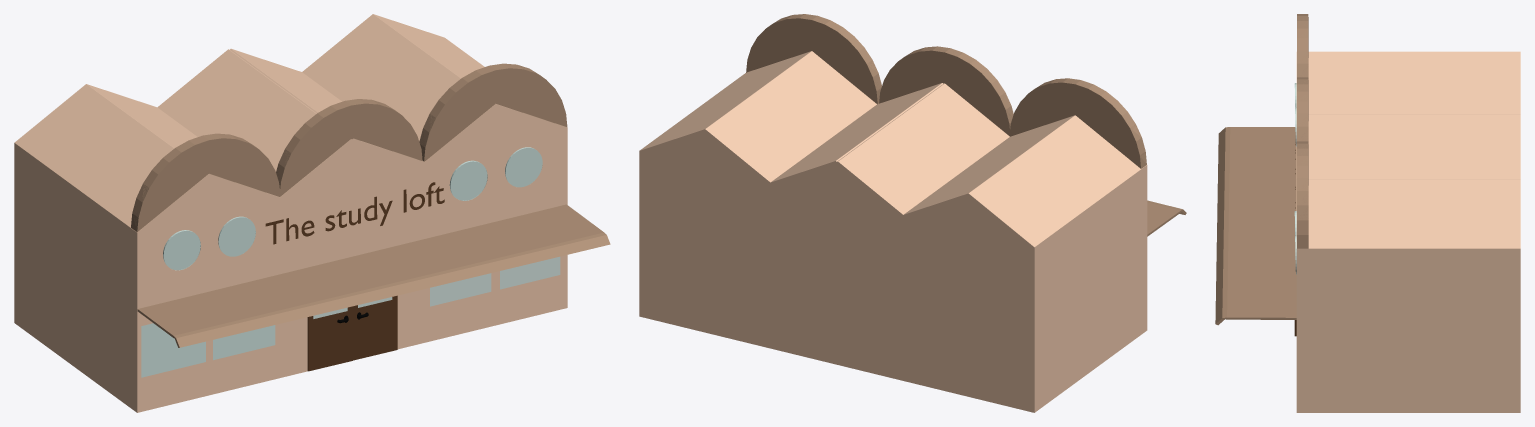
Rendered from studyloft.fbx.
3 views of the same model, side by side, from view 1: azimuth 30°, elevation 25°; view 2: azimuth 150°, elevation 25°; view 3: azimuth 270°, elevation 25° (orthographic). The views are drawn at different scales.
Visible parts, largest first — view 1: Cube, Cube.008, Plane.004, Cube.007, Cube.015, Circle, Circle.002, Circle.001, Cube.002, Cube.006, Cube.001, Cube.003 (+5 smaller); view 2: Cube, Cube.008, Cube.007, Cube.015, Circle, Circle.002, Circle.001, Plane.004; view 3: Cube.008, Plane.004, Cube, Cube.015, Circle.002, Circle.001, Circle, Cube.007.
Boxes of the visible parts, x1,y1,x2,y2 form: Cube: [14, 84, 280, 412]; Cube.008: [302, 14, 567, 342]; Plane.004: [137, 204, 610, 347]; Cube.007: [157, 49, 422, 378]; Cube.015: [230, 48, 425, 342]; Circle: [131, 133, 280, 231]; Circle.002: [419, 63, 567, 161]; Circle.001: [276, 99, 422, 195]; Cube.002: [141, 323, 275, 377]; Cube.006: [307, 306, 352, 371]; Cube.001: [430, 256, 560, 306]; Cube.003: [353, 295, 397, 360]; Cube: [902, 115, 1147, 412]; Cube.008: [639, 51, 876, 348]; Cube.007: [772, 83, 1009, 380]; Cube.015: [769, 83, 943, 362]; Circle: [1009, 78, 1146, 168]; Circle.002: [746, 14, 881, 104]; Circle.001: [879, 46, 1013, 135]; Plane.004: [1147, 200, 1186, 236]; Cube.008: [1296, 179, 1520, 412]; Plane.004: [1215, 127, 1296, 325]; Cube: [1296, 51, 1520, 114]; Cube.015: [1296, 116, 1520, 178]; Circle.002: [1297, 141, 1308, 248]; Circle.001: [1297, 77, 1308, 143]; Circle: [1297, 14, 1308, 79]; Cube.007: [1296, 114, 1520, 115].
Bounding box in the file's own units: 1510 × 855 × 1016.
